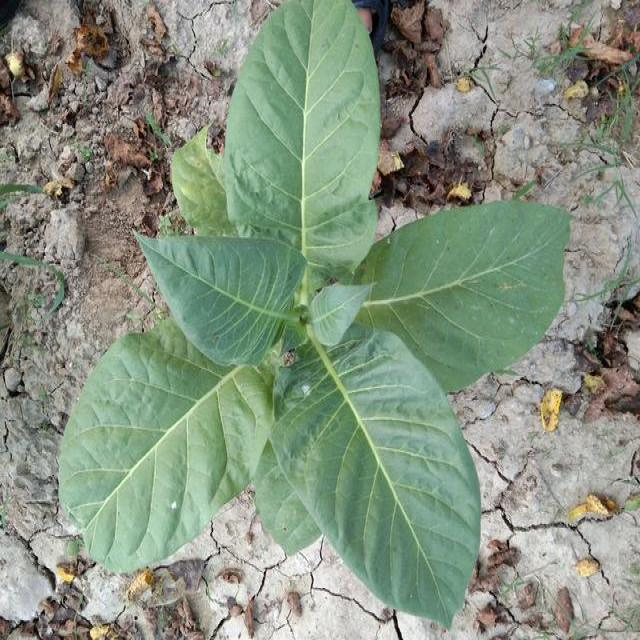crop: (80, 0, 568, 613)
